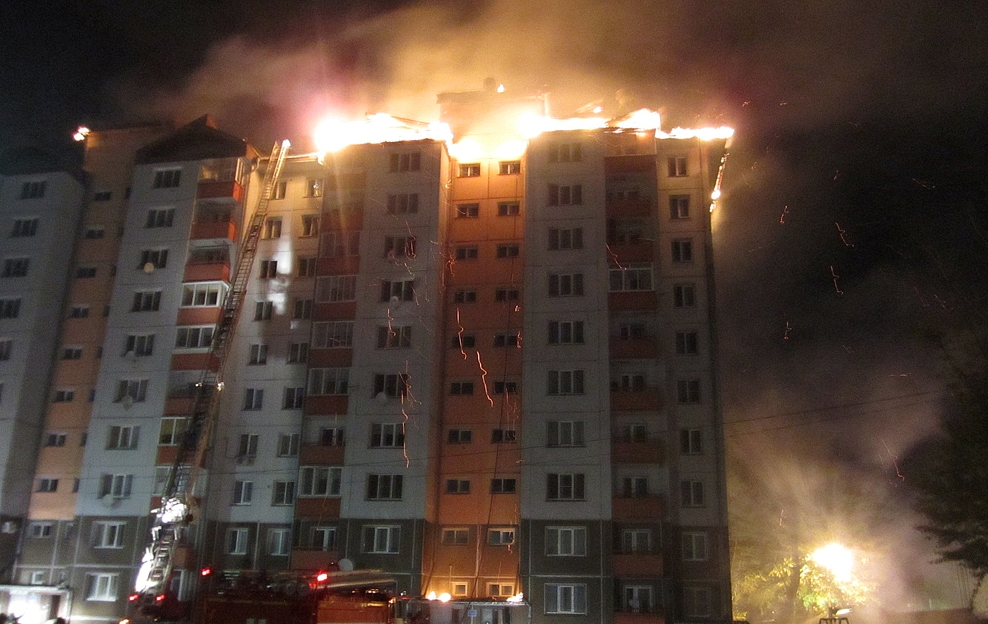fire: (176, 48, 783, 177)
